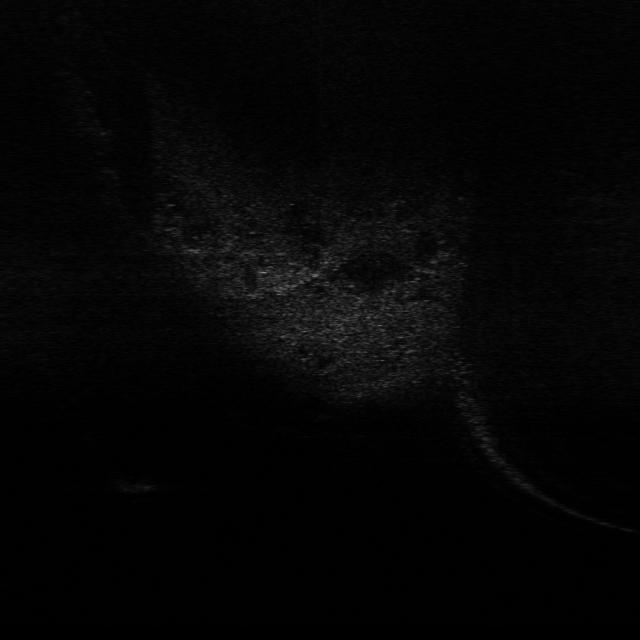cube: (108, 469, 157, 493)
